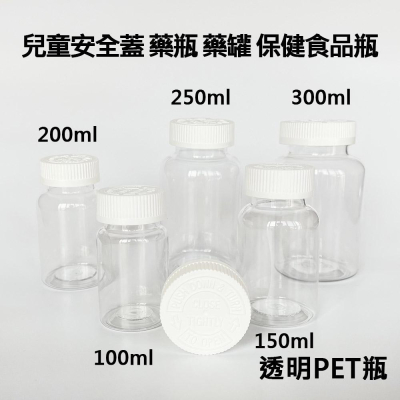medicinejar: (275, 114, 361, 282), (233, 157, 318, 323), (169, 114, 248, 291), (93, 182, 168, 333), (38, 153, 102, 293)
